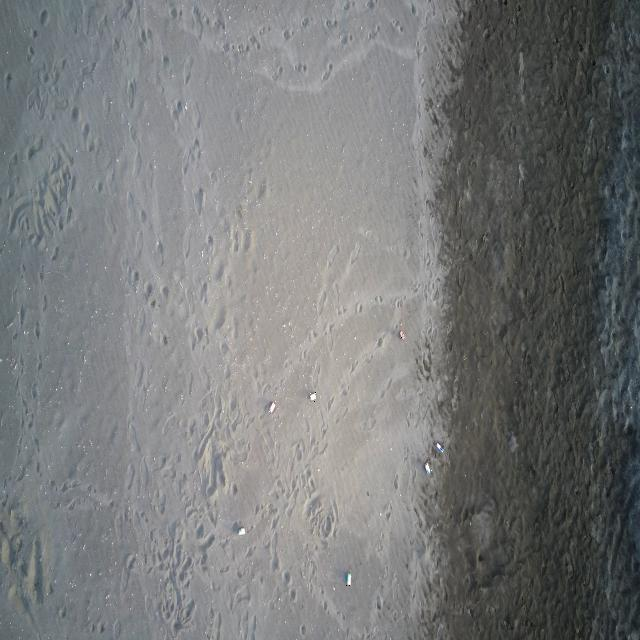tin-and-aluminum-cans: (424, 461, 432, 475), (269, 400, 276, 413), (436, 443, 444, 454), (346, 572, 352, 586), (238, 527, 247, 536), (309, 392, 317, 402), (399, 330, 405, 340)
